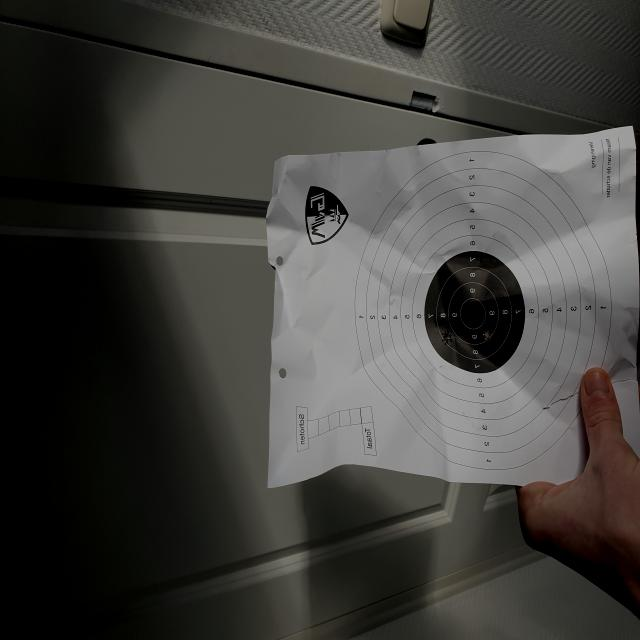8: (441, 330, 453, 346)
9: (482, 329, 492, 342)
Target: (354, 152, 612, 474)
black_contour: (424, 251, 525, 374)
